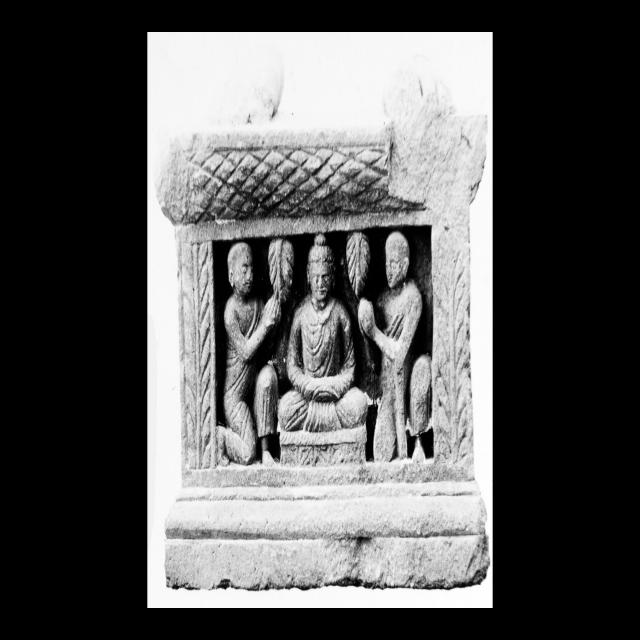buddha-sitting: (278, 233, 368, 464)
